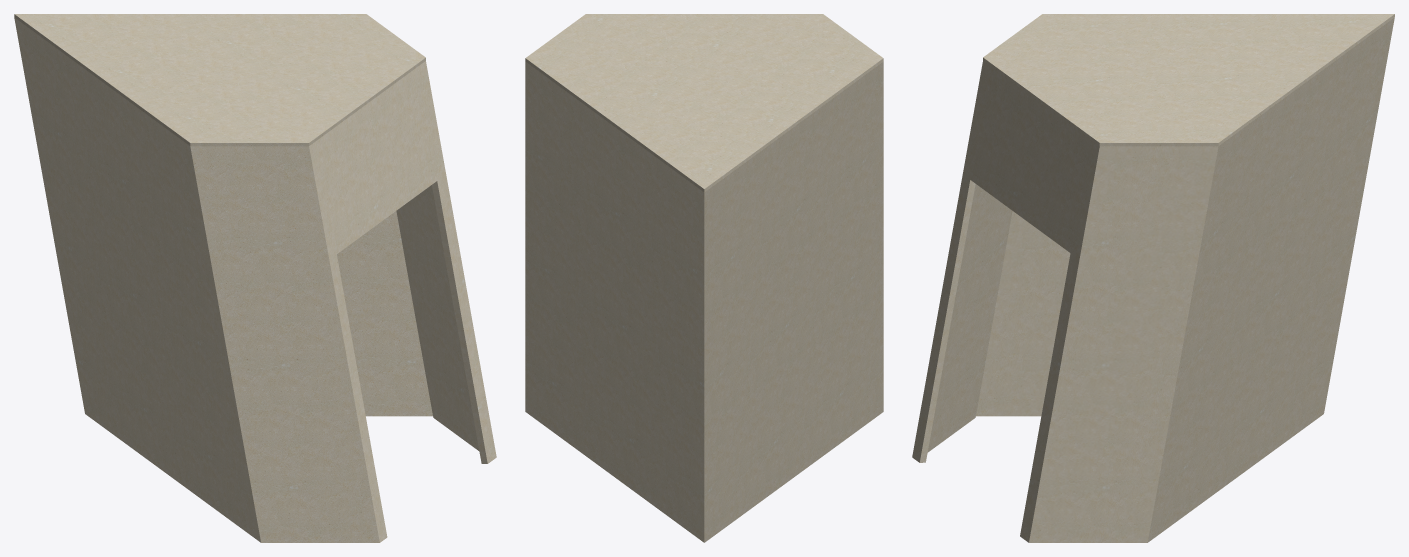
The model's file is suiteEleWall.fbx.
3 views of the same model, side by side, from view 1: azimuth 30°, elevation 25°; view 2: azimuth 150°, elevation 25°; view 3: azimuth 270°, elevation 25° (orthographic).
Visible parts, largest first — view 1: 物件_2, 物件_1; view 2: 物件_2, 物件_1; view 3: 物件_2, 物件_1.
Boxes of the visible parts, <box> form: 物件_2: <box>14,17,496,542</box>; 物件_1: <box>14,14,425,146</box>; 物件_2: <box>525,61,883,542</box>; 物件_1: <box>525,14,883,192</box>; 物件_2: <box>912,18,1394,542</box>; 物件_1: <box>983,14,1394,146</box>.
Bounding box in the file's own units: 4.76 × 5.83 × 6.64.
Materials: 1 (1 with a texture image).
